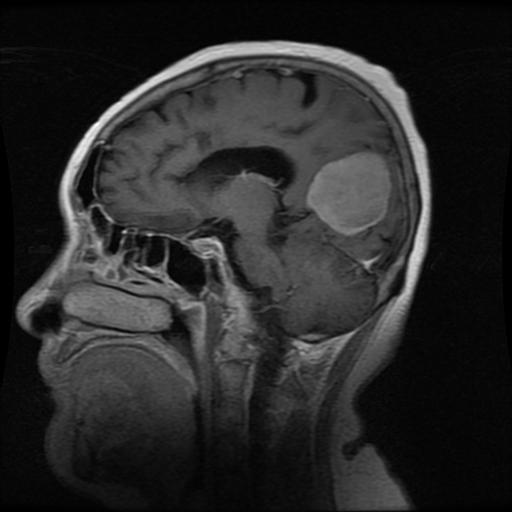Menigiomia_tumour: (309, 150, 390, 234)
